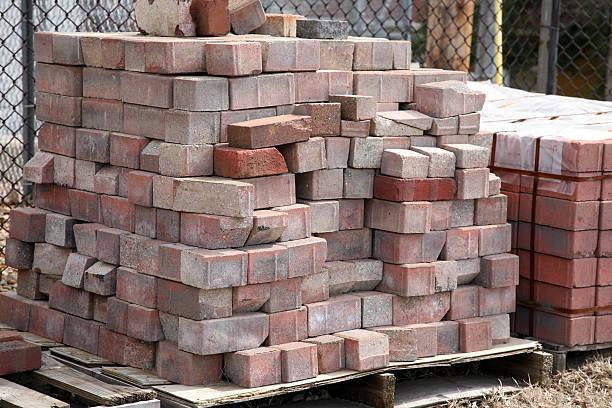Bricks: (179, 308, 270, 353), (523, 305, 600, 355), (158, 277, 234, 322), (172, 177, 248, 219), (225, 113, 311, 148), (524, 192, 599, 232), (541, 133, 610, 176), (156, 344, 225, 384), (136, 143, 216, 177), (518, 225, 598, 258), (527, 276, 596, 314), (525, 249, 596, 285), (337, 325, 388, 374), (526, 172, 609, 202), (372, 230, 443, 265), (96, 326, 147, 372), (183, 213, 248, 249), (216, 148, 289, 180), (322, 254, 382, 292), (228, 347, 285, 387), (420, 83, 488, 115), (368, 201, 429, 236), (234, 74, 296, 108), (200, 39, 258, 75), (307, 295, 359, 335), (270, 338, 317, 382), (184, 252, 244, 285), (374, 175, 453, 200), (352, 68, 412, 100), (355, 38, 410, 72), (261, 39, 321, 70), (247, 172, 297, 209), (166, 110, 220, 144), (119, 230, 160, 273), (392, 294, 452, 323), (269, 306, 310, 348), (375, 322, 418, 362), (175, 79, 230, 110), (319, 231, 374, 262), (114, 267, 155, 308), (50, 283, 91, 322), (294, 72, 353, 99), (121, 104, 165, 140), (411, 145, 457, 179), (124, 303, 162, 343), (270, 198, 307, 239), (387, 265, 435, 296), (291, 239, 326, 281), (35, 92, 78, 126), (74, 129, 114, 164), (308, 331, 344, 369), (124, 77, 169, 107), (382, 147, 424, 179), (442, 140, 488, 169), (62, 313, 97, 351), (35, 123, 74, 157), (33, 245, 72, 279), (473, 222, 510, 257), (79, 66, 122, 96), (31, 303, 63, 343), (107, 133, 142, 169), (87, 260, 116, 303), (269, 274, 300, 314), (81, 100, 123, 129), (460, 316, 494, 351), (234, 284, 271, 316), (34, 183, 71, 215), (41, 209, 72, 247), (2, 291, 29, 332), (71, 190, 103, 224), (484, 252, 519, 283), (155, 245, 186, 280), (61, 251, 90, 288), (95, 226, 121, 267), (39, 64, 77, 92), (6, 207, 34, 244), (321, 40, 353, 71), (362, 294, 393, 326), (102, 199, 134, 230), (308, 101, 338, 134), (446, 227, 477, 258), (435, 320, 460, 358), (307, 173, 343, 199), (172, 43, 205, 71), (13, 270, 41, 303), (344, 168, 375, 197), (450, 285, 481, 314), (71, 227, 99, 259), (20, 154, 53, 181), (128, 170, 153, 205), (462, 165, 485, 203), (474, 196, 505, 224), (51, 34, 81, 62), (300, 273, 327, 304), (340, 93, 373, 118), (156, 208, 182, 239), (434, 263, 458, 296), (100, 34, 123, 67), (299, 143, 327, 170), (75, 161, 101, 190), (313, 203, 339, 231), (3, 240, 29, 268), (340, 199, 365, 228), (416, 326, 439, 357), (52, 157, 75, 188), (354, 139, 379, 167), (376, 120, 422, 135), (132, 205, 155, 235), (155, 177, 174, 212), (102, 301, 123, 332), (126, 40, 146, 72), (148, 43, 170, 72), (450, 202, 474, 227), (329, 137, 350, 165), (32, 32, 52, 61), (456, 261, 484, 281), (96, 166, 117, 192), (433, 115, 457, 137), (85, 35, 101, 66), (432, 198, 448, 229), (462, 117, 479, 136), (93, 296, 105, 321)
